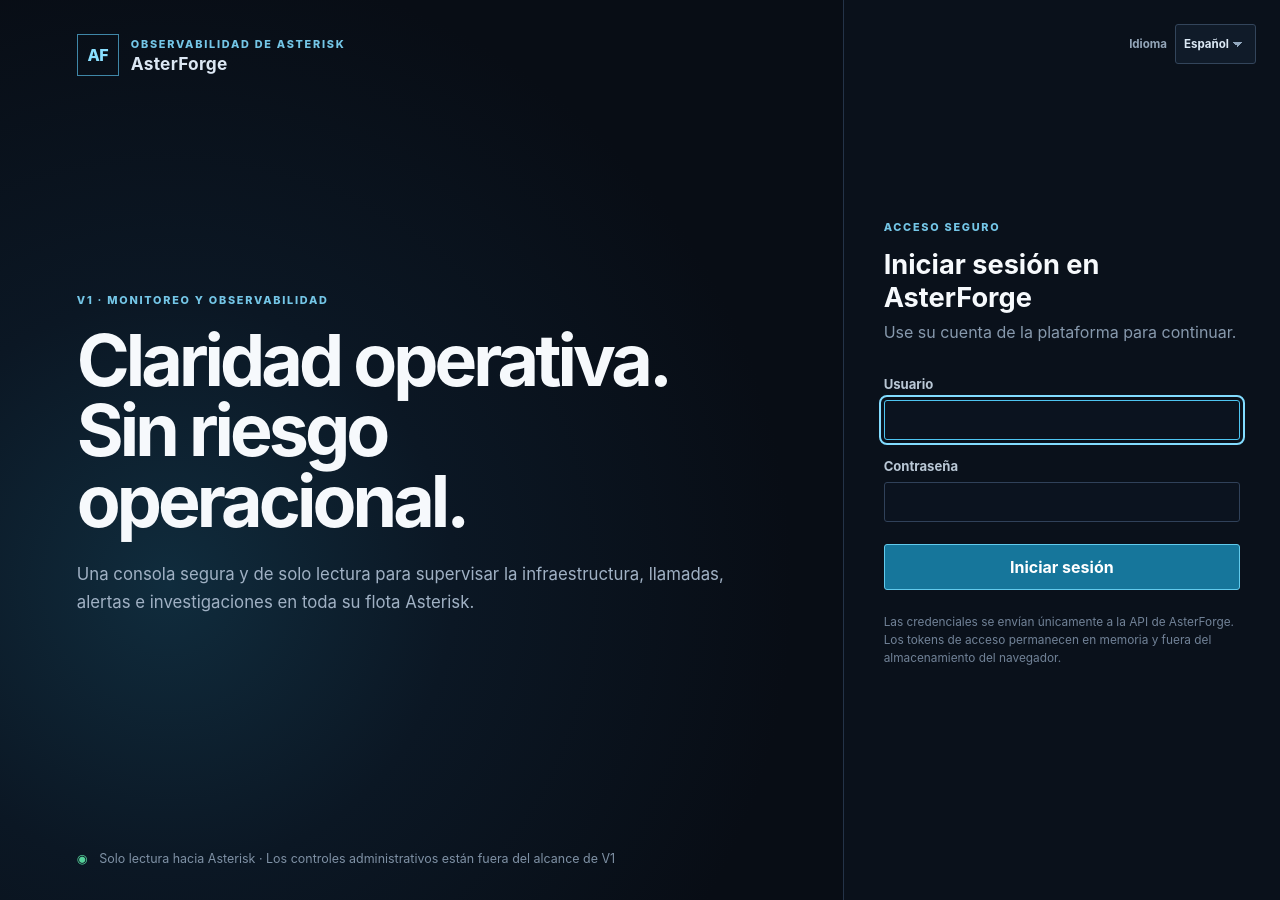
Scenario: App › localizes the forced-password-change experience
Type "operator" into the field labelled "Usuario" at {"x": 1062, "y": 420}, box [884,400,1240,440]
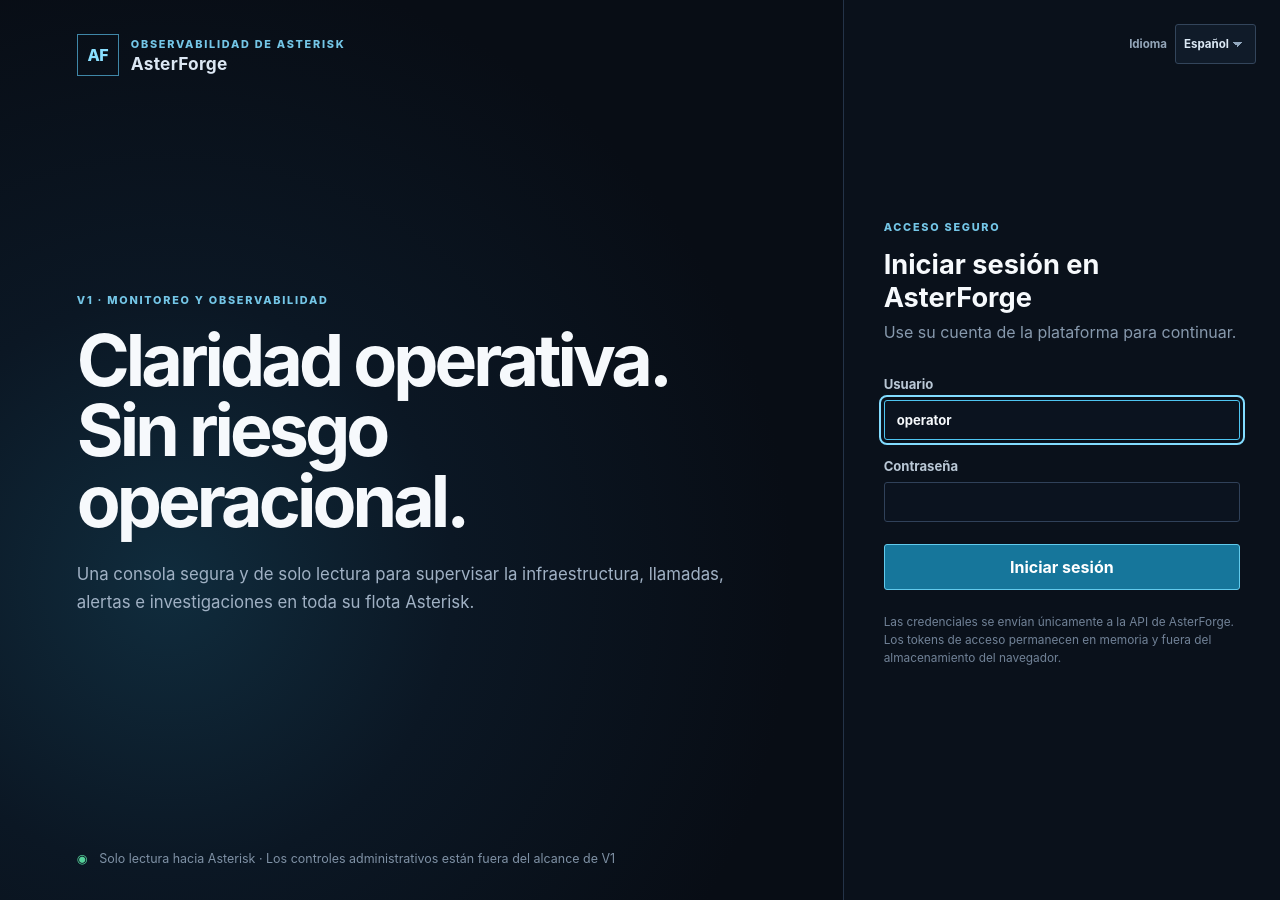
Type "temporary password" into the password field labelled "Contraseña" at {"x": 1062, "y": 502}, box [884,482,1240,522]
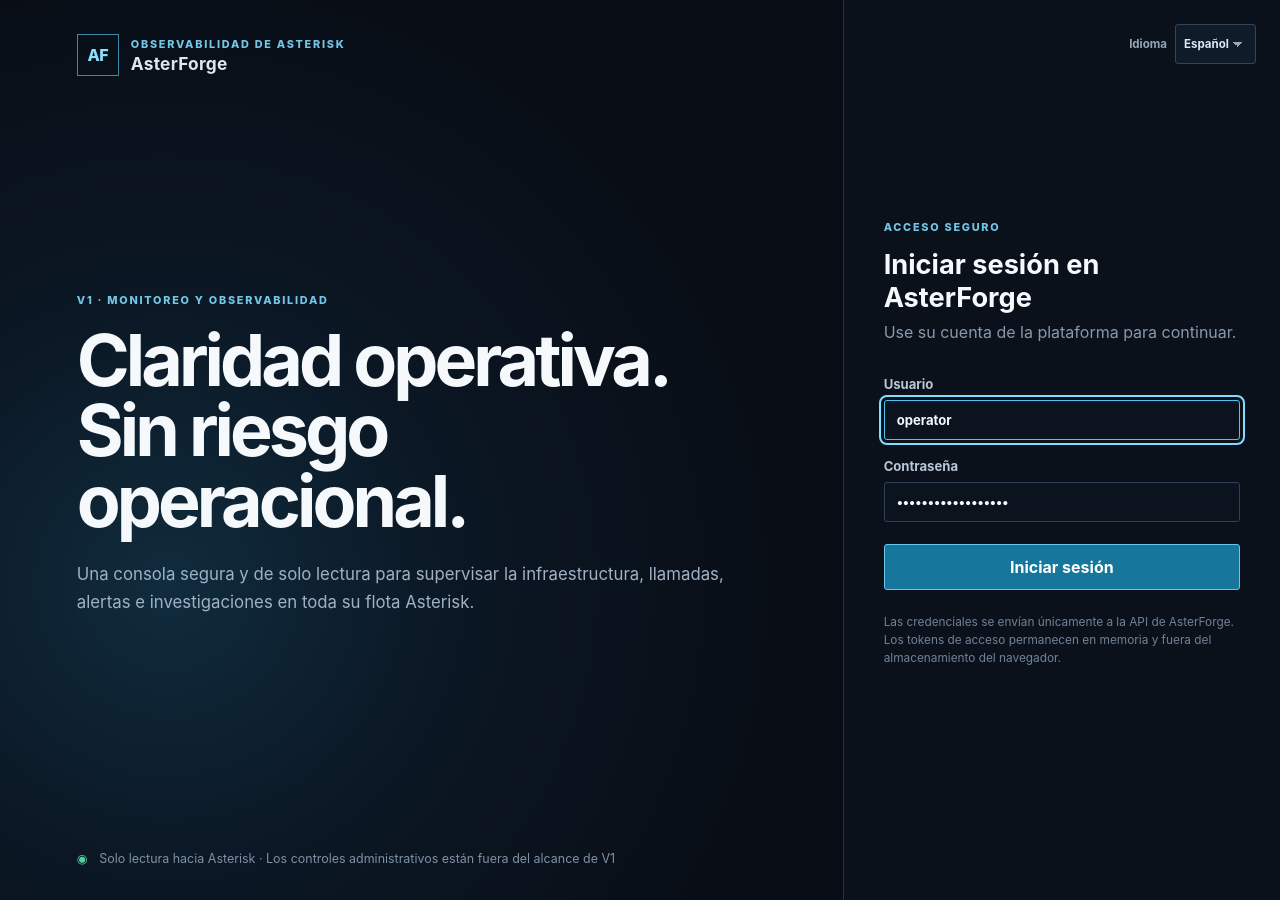
Click the button "Iniciar sesión" at {"x": 1062, "y": 567}, box [884,544,1240,590]
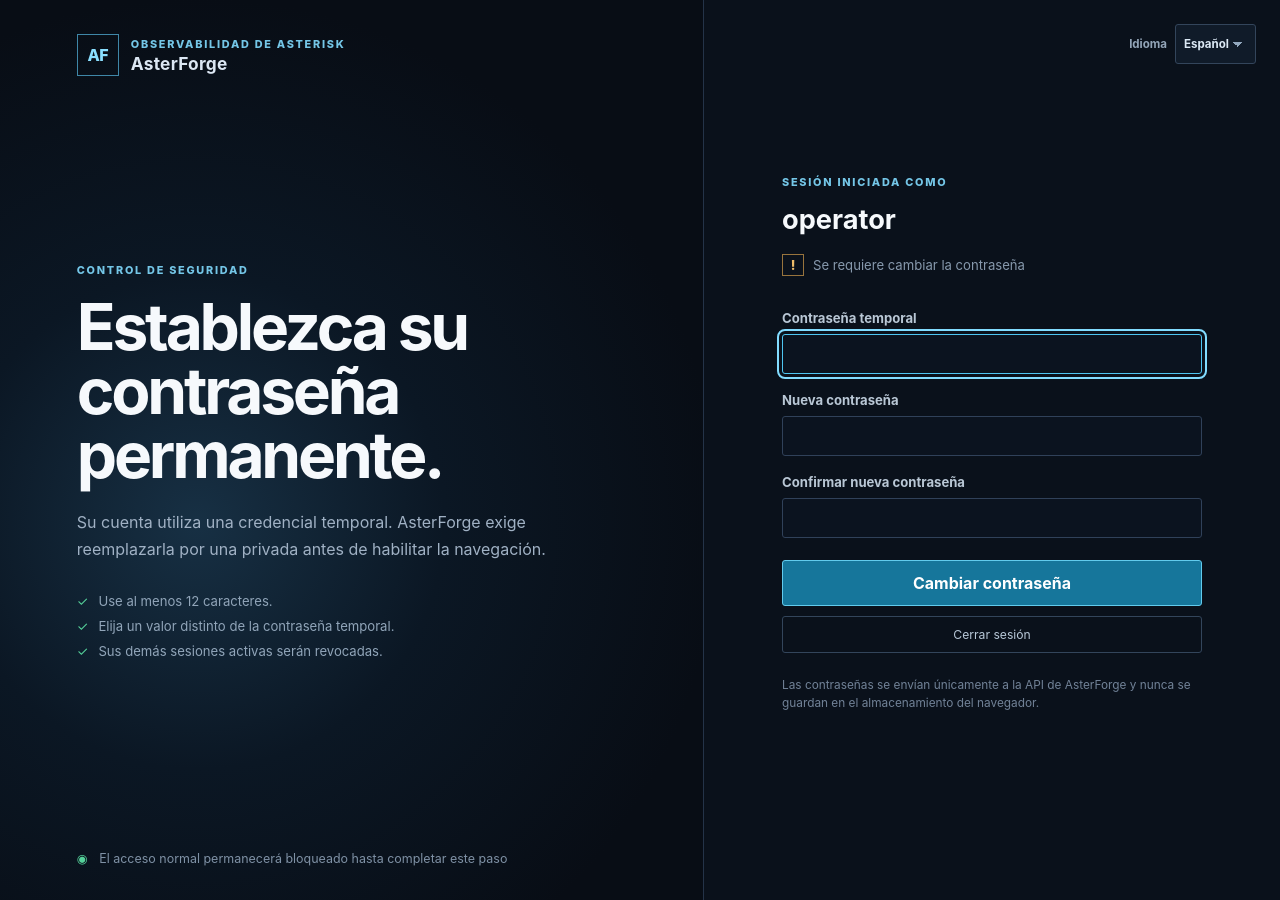
Result: the heading "Establezca su contraseña permanente." is shown at [77,288,467,493]
Result: the password field labelled "Contraseña temporal" is shown at [782,334,1202,374]
